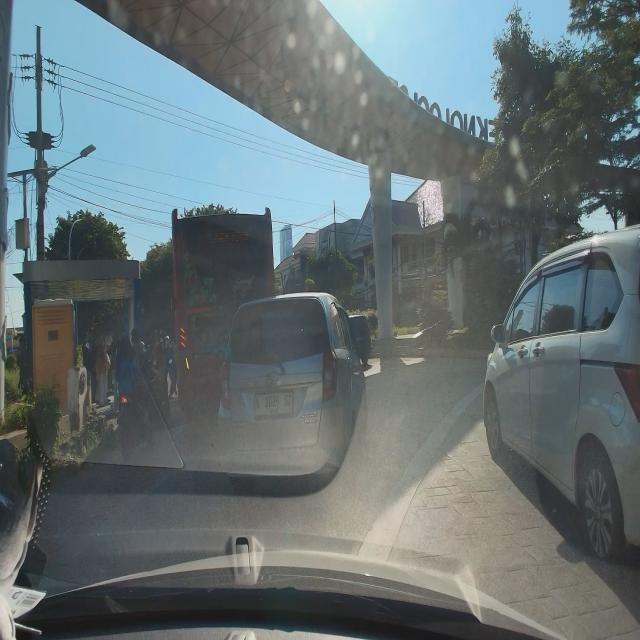bus: (168, 203, 280, 424)
car: (480, 218, 640, 560), (216, 290, 368, 488)
license-plate: (256, 391, 295, 421)
